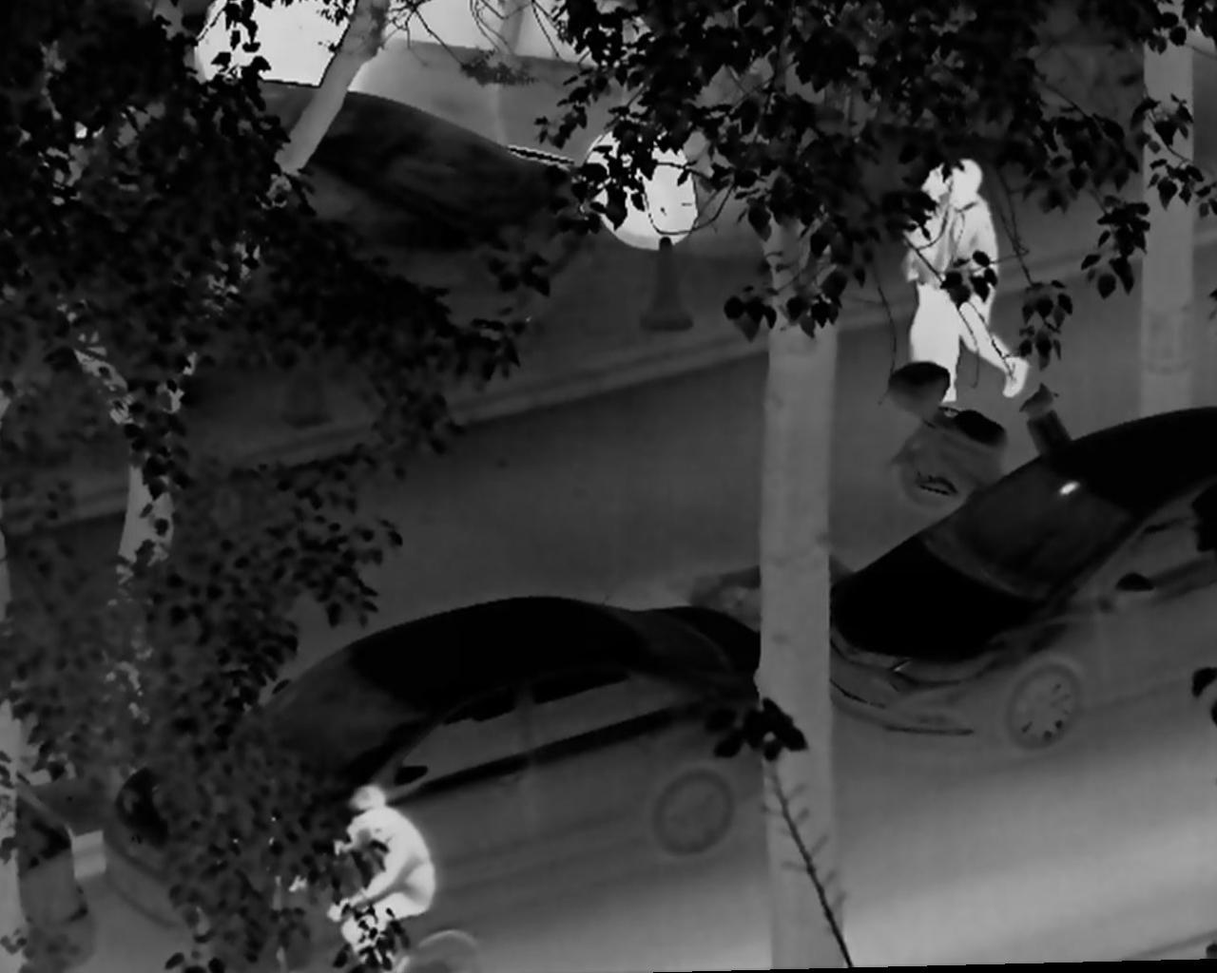person: (287, 773, 439, 973), (932, 160, 1031, 410), (902, 161, 967, 388)
